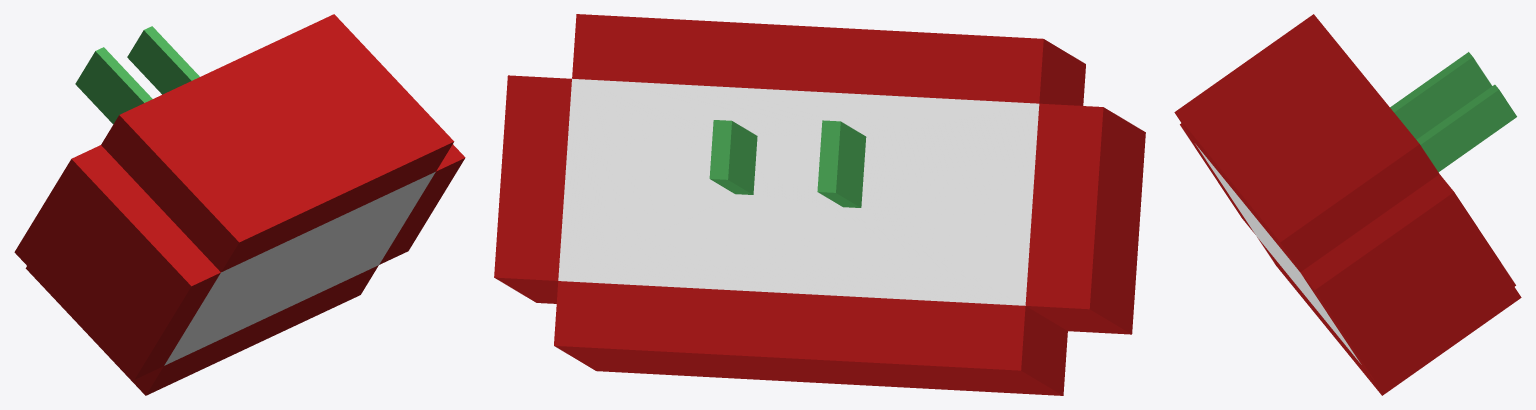
Rendered from Case_Study_SmartSwitch_2.glb.
3 views of the same model, side by side, from view 1: azimuth 30°, elevation 25°; view 2: azimuth 150°, elevation 25°; view 3: azimuth 270°, elevation 25° (orthographic). The views are drawn at different scales.
Visible parts, largest first — view 1: Part 5, Part 6, Part 7; view 2: Part 5, Part 6, Part 7; view 3: Part 5, Part 7, Part 6.
Boxes of the visible parts, bbox=[...] form: Part 5: bbox=[14, 14, 465, 395]; Part 6: bbox=[164, 171, 435, 365]; Part 7: bbox=[75, 26, 199, 124]; Part 5: bbox=[494, 14, 1145, 395]; Part 6: bbox=[558, 78, 1039, 305]; Part 7: bbox=[709, 120, 866, 207]; Part 5: bbox=[1174, 14, 1521, 395]; Part 7: bbox=[1390, 52, 1516, 172]; Part 6: bbox=[1195, 144, 1361, 364].
Size of the model in its own units: 0.083 by 0.0524 by 0.0646.
